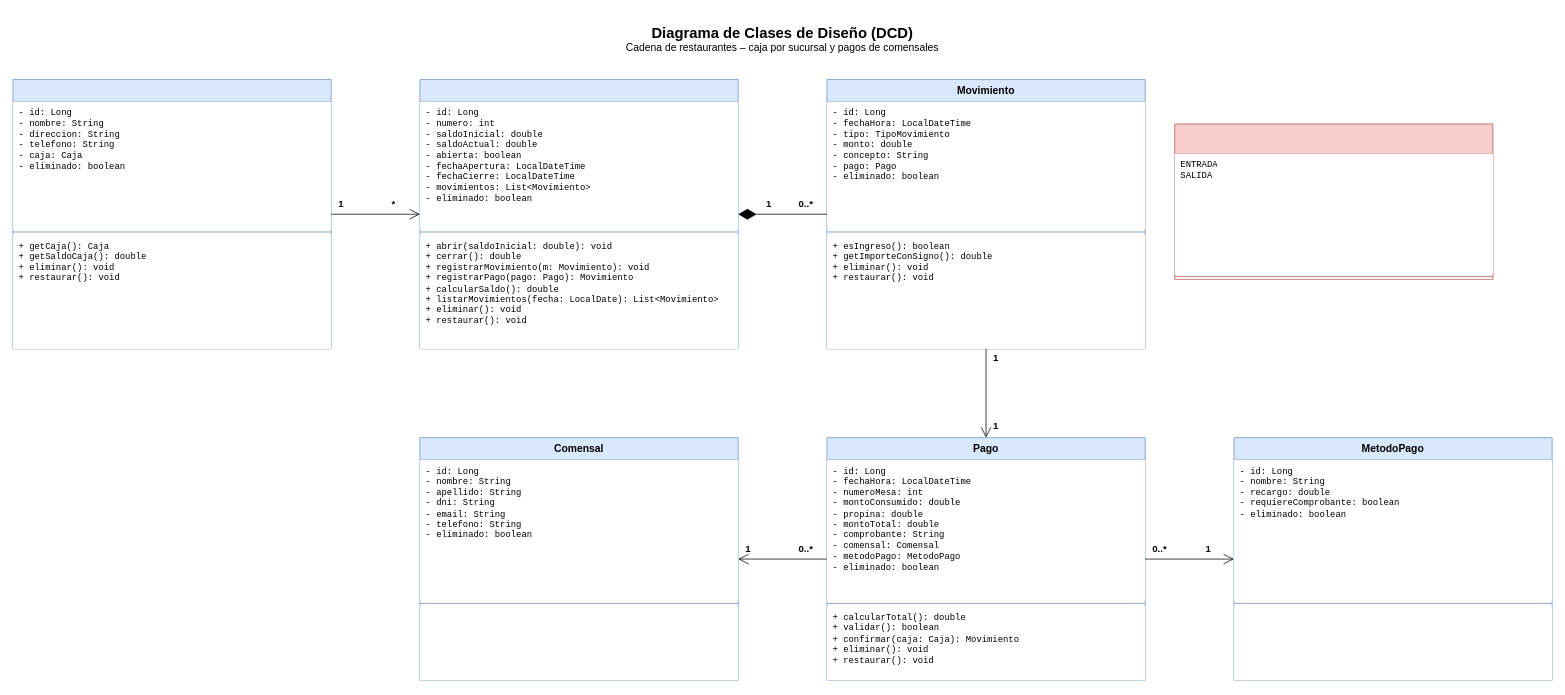
Some shapes in this 1565 by 695 pixel diagram are drawn without their labels. Each missing label, with the box of its shape:
+ aplicarRecargo(monto: double): double + eliminar(): void + restaurar(): void: (1234, 606, 1552, 680)
+ getNombreCompleto(): String + eliminar(): void + restaurar(): void: (420, 606, 738, 680)
Caja: (419, 79, 738, 349)
ENUM TipoMovimiento: (1174, 123, 1493, 279)
Restaurante: (12, 79, 331, 349)
